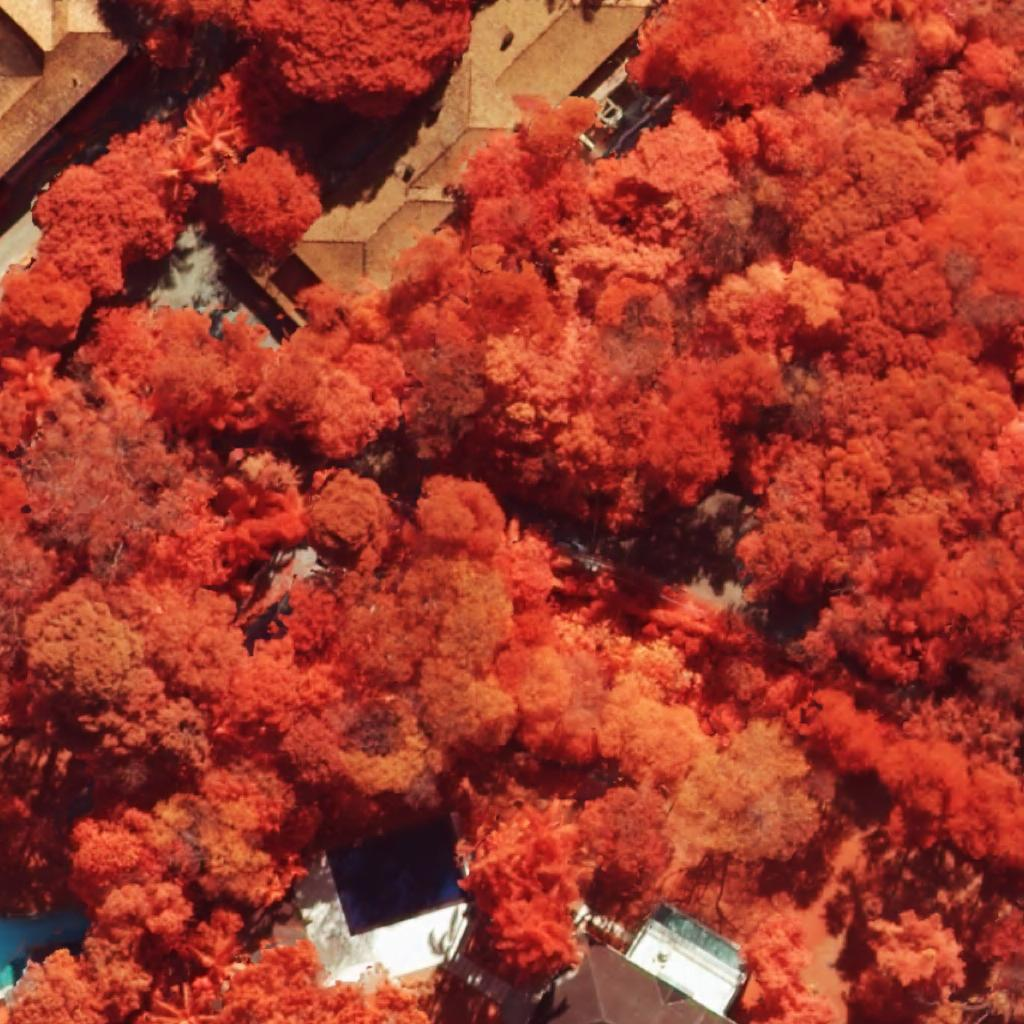pool: (326, 814, 467, 936), (0, 913, 90, 990)
